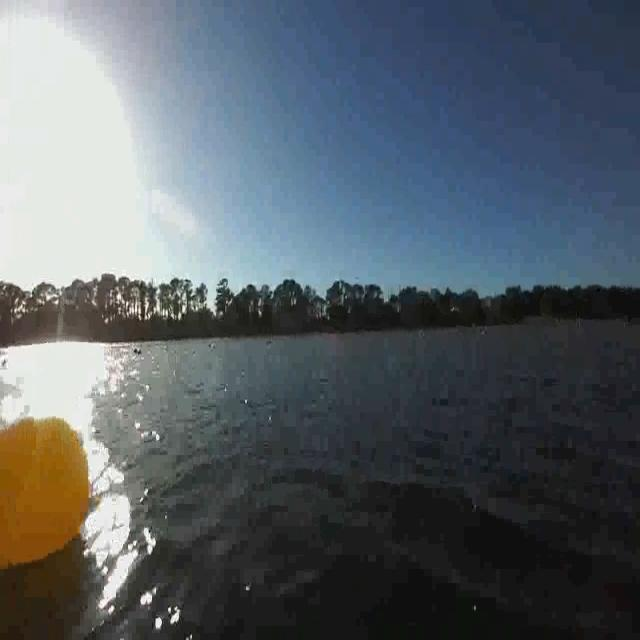yellow-buoy: (0, 418, 94, 579)
